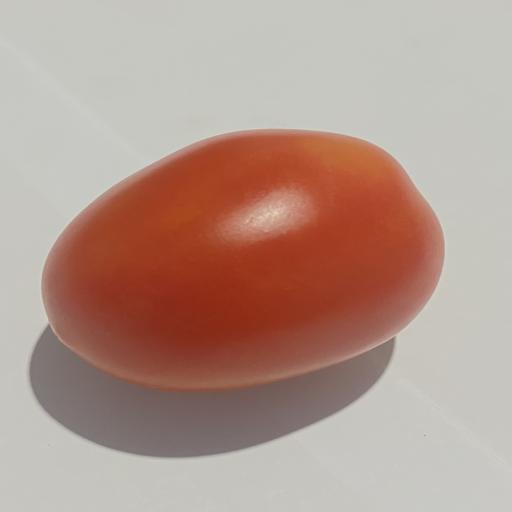ripe: (42, 129, 444, 391)
